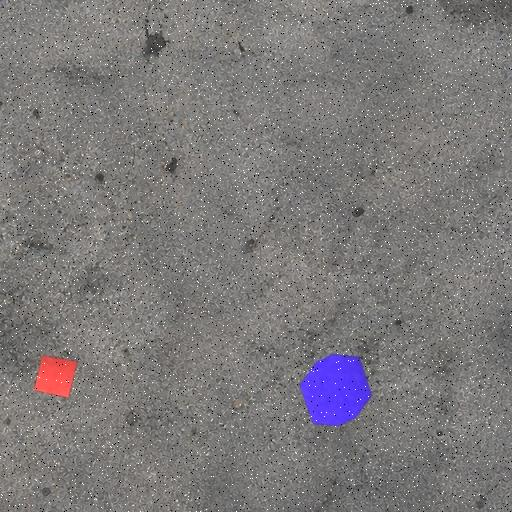RED_SQUARE: (33, 355, 78, 399)
